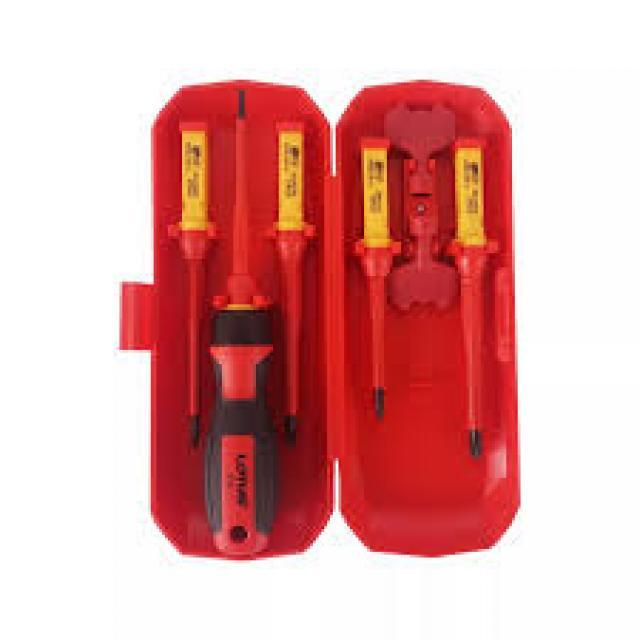screwdriver: (206, 88, 286, 569)
